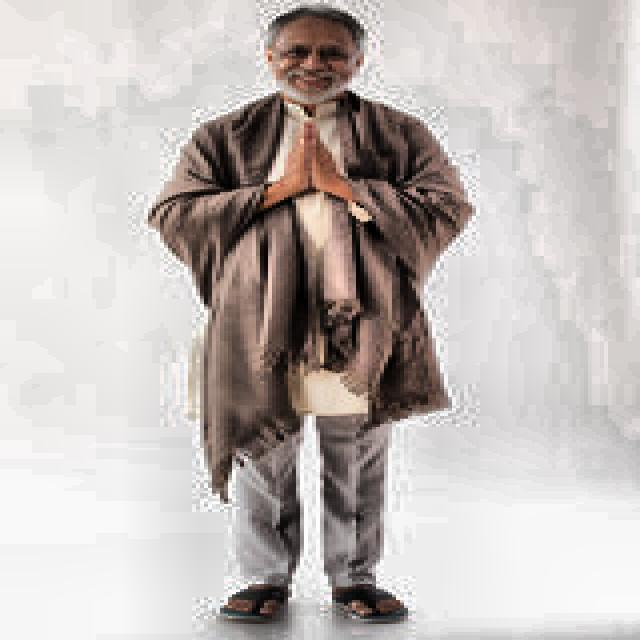Human: (144, 1, 518, 638)
